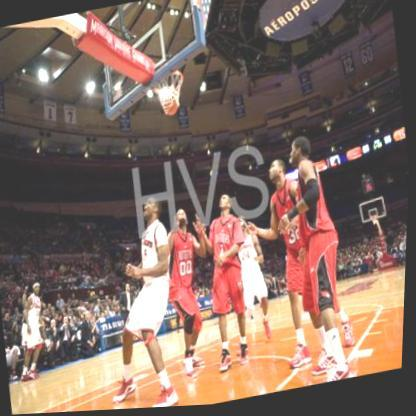basketball: (158, 87, 183, 120)
rim: (150, 67, 186, 95)
